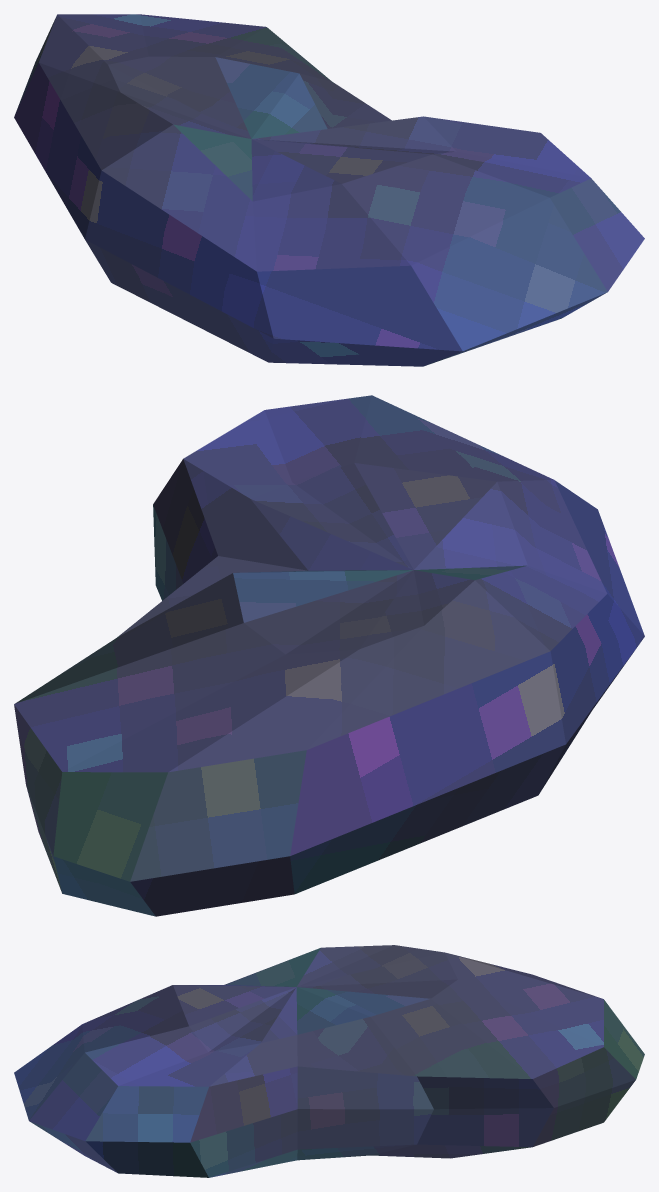
File: Rocks.obj
3 views of the same model, one above another, from view 1: azimuth 30°, elevation 25°; view 2: azimuth 150°, elevation 25°; view 3: azimuth 270°, elevation 25° (orthographic). The views are drawn at different scales.
Visible parts, largest first — view 1: sphere; view 2: sphere; view 3: sphere.
Boxes of the visible parts, box(x1,y1,x2,y2) form: sphere: box(14, 14, 644, 366); sphere: box(14, 395, 644, 916); sphere: box(14, 945, 644, 1177).
Size of the model in its own units: 0.6762 by 0.3236 by 1.12.
1 material, 1 textured.
